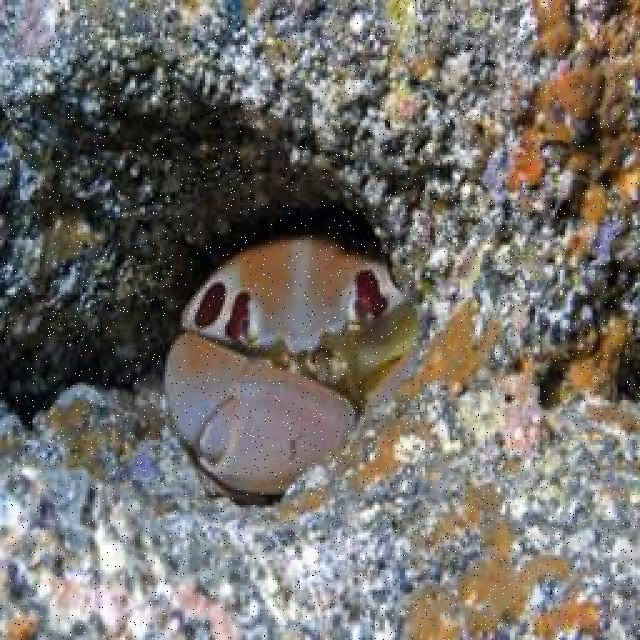reefs: (163, 238, 415, 497)
